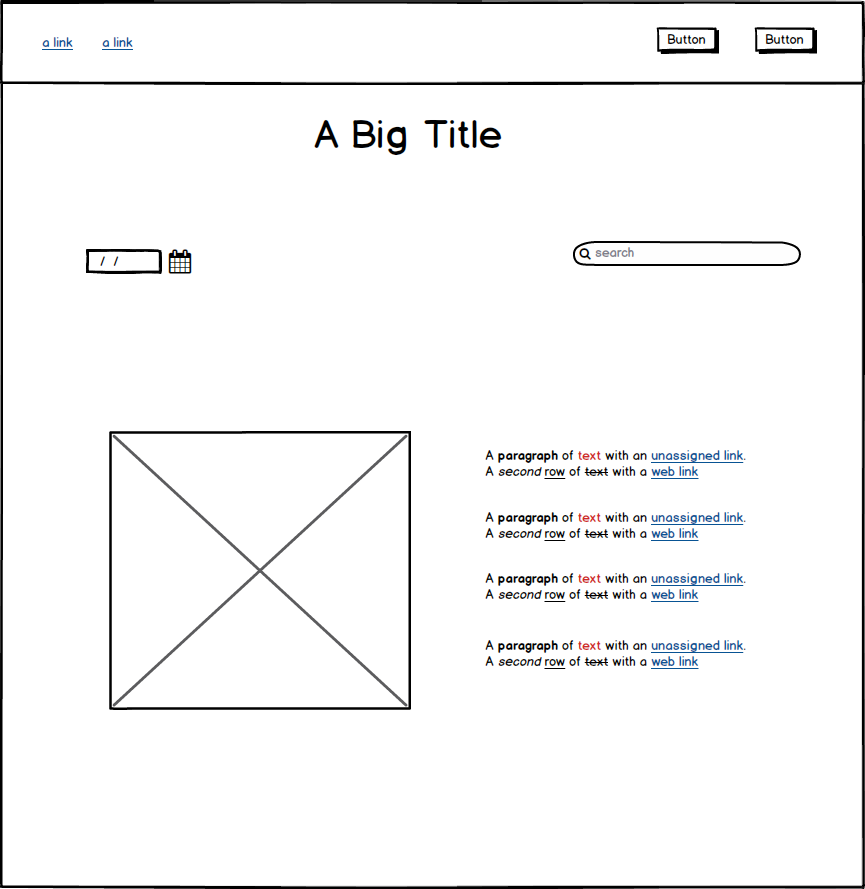button: (656, 20, 725, 61), (749, 24, 818, 58)
date_picker: (82, 242, 201, 282)
h1: (307, 105, 507, 162)
image: (101, 423, 417, 717)
navlink: (94, 27, 140, 58), (38, 28, 78, 54)
p: (479, 440, 764, 682)
search: (567, 232, 813, 273)
